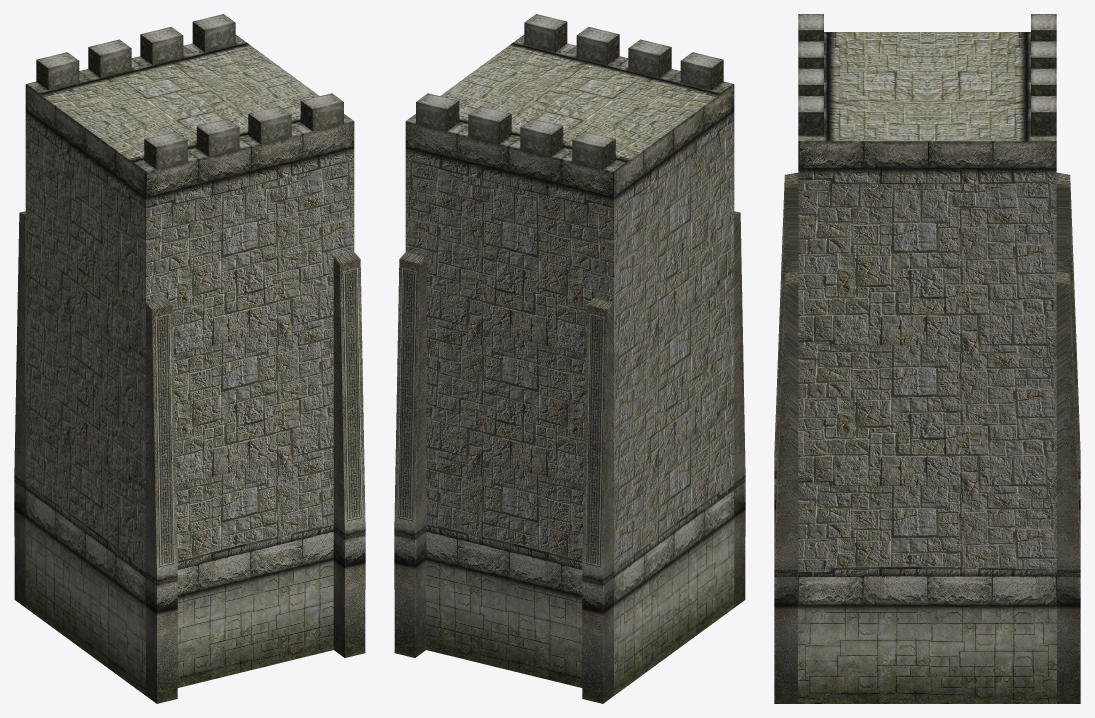
Rendered from b1-bigdam-02.fbx.
3 views of the same model, side by side, from view 1: azimuth 30°, elevation 25°; view 2: azimuth 150°, elevation 25°; view 3: azimuth 270°, elevation 25° (orthographic). The views are drawn at different scales.
Visible parts, largest first — view 1: b1-bigdam-02; view 2: b1-bigdam-02; view 3: b1-bigdam-02.
Boxes of the visible parts, left/top/right/bottom form: b1-bigdam-02: left=14, top=14, right=365, bottom=703; b1-bigdam-02: left=394, top=14, right=745, bottom=703; b1-bigdam-02: left=774, top=14, right=1080, bottom=703.
Bounding box in the file's own units: 10 × 25 × 11.84.
